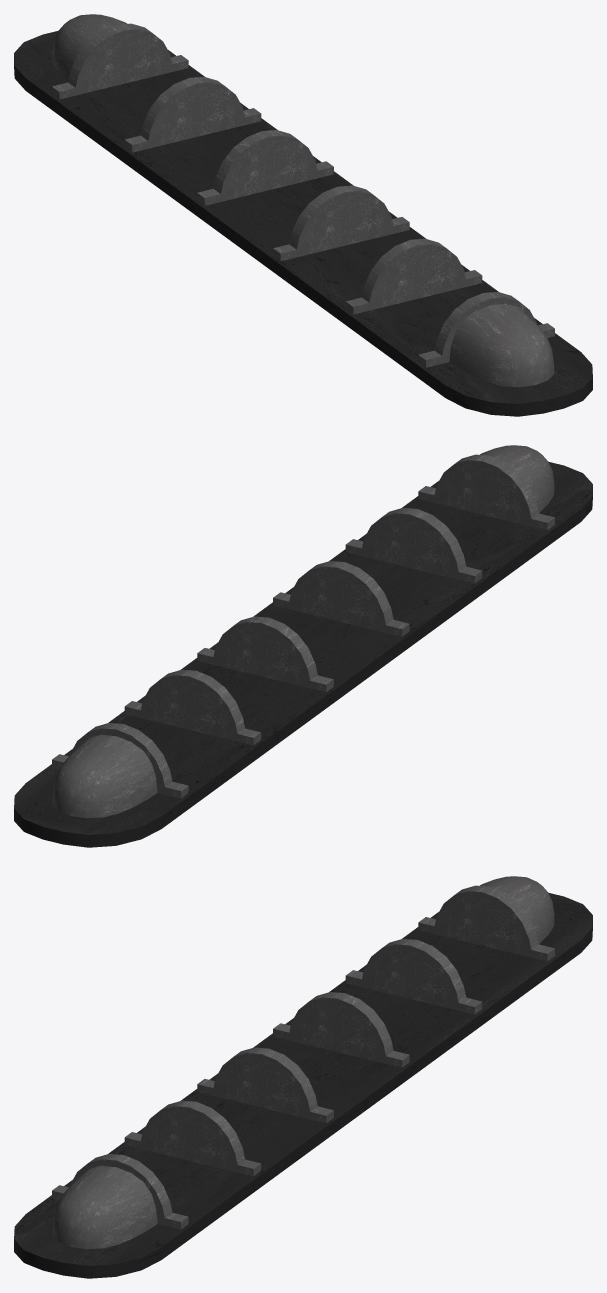
File: F_Timer_01.fbx
3 renders of one model, top to bottom at view 1: azimuth 30°, elevation 25°; view 2: azimuth 150°, elevation 25°; view 3: azimuth 330°, elevation 25°, orthographic.
Parts seen in each view (by area): view 1: F_Timer_01; view 2: F_Timer_01; view 3: F_Timer_01.
Part boxes in pixels (box(x1,y1,x2,y2)): F_Timer_01: box(14, 14, 592, 416); F_Timer_01: box(14, 445, 592, 847); F_Timer_01: box(14, 876, 592, 1278).
Size of the model in its own units: 15.7 by 7.31 by 100.
2 materials, 2 textured.
